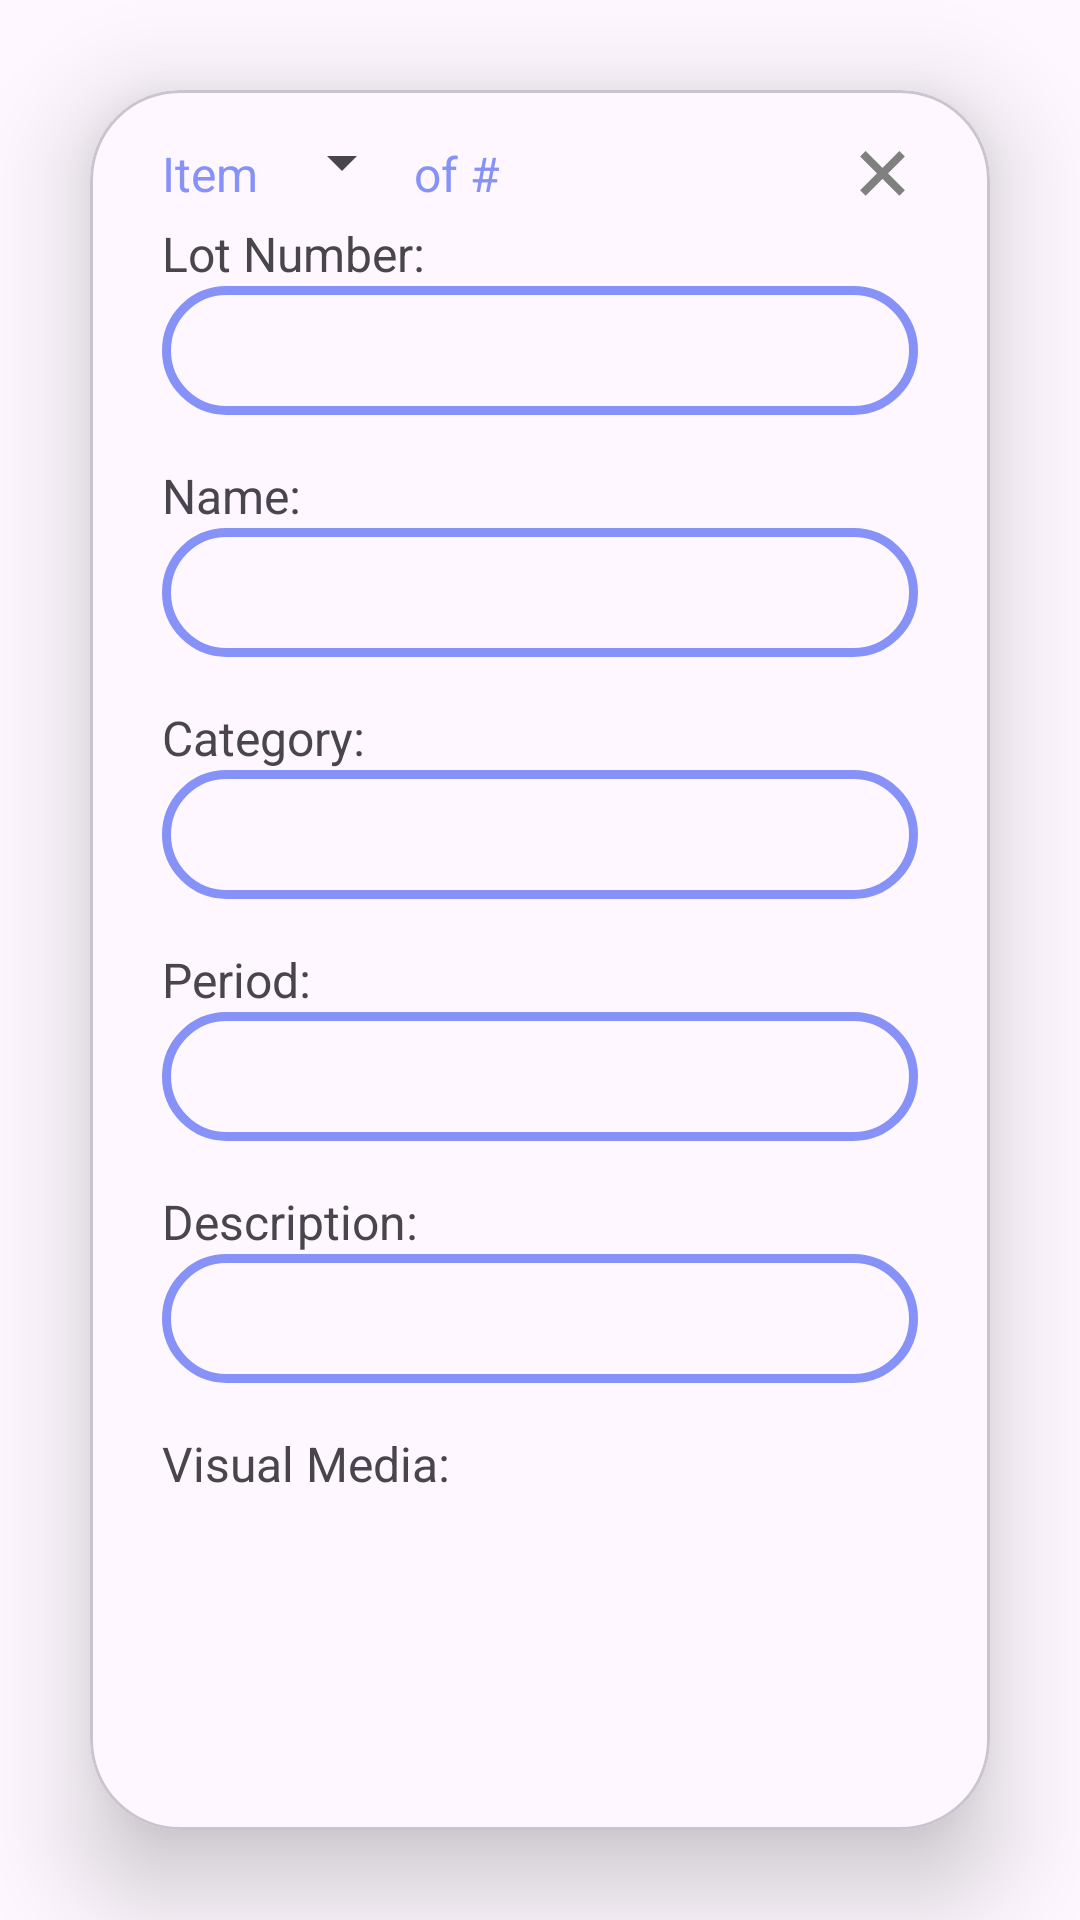

Locate icon controls on the screen. Image size 1080×1920, boxes as (x1, y1, x2, y2).
close button: (860, 151, 905, 196)
